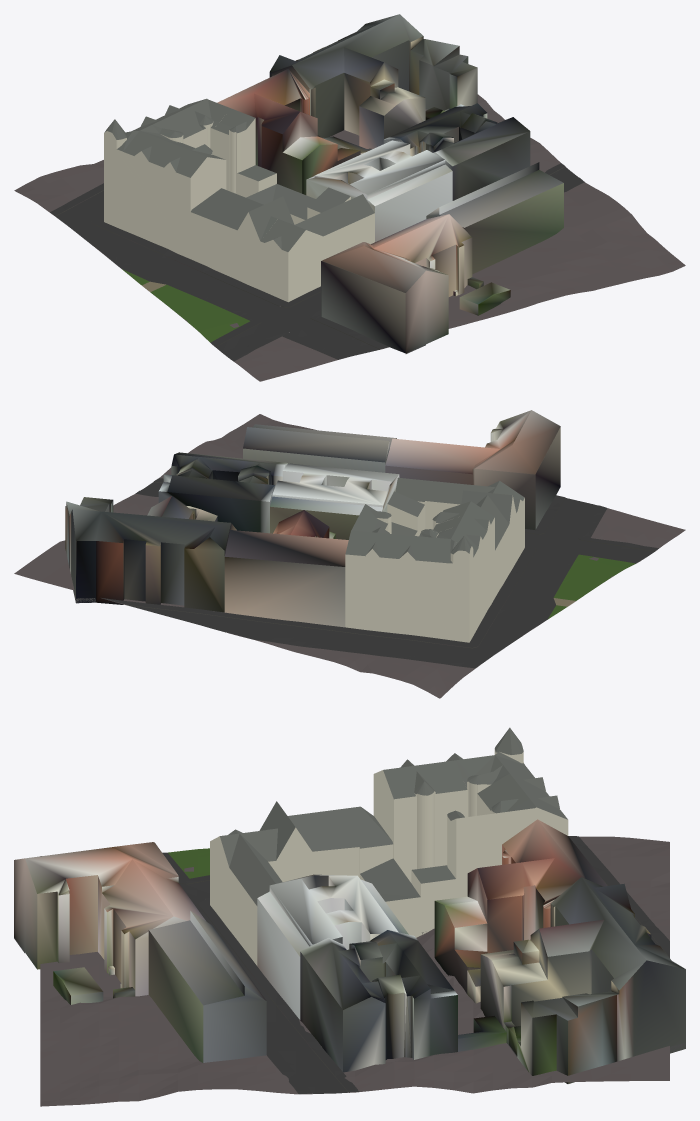
The picture shows the model from 3 angles, top to bottom: view 1: azimuth 30°, elevation 25°; view 2: azimuth 150°, elevation 25°; view 3: azimuth 270°, elevation 25°; orthographic projection. The views are drawn at different scales.
Parts seen in each view (by area): view 1: c_m08_p08; view 2: c_m08_p08; view 3: c_m08_p08.
Part boxes in pixels (x1,y1,x2,y2): c_m08_p08: (14,14,685,381); c_m08_p08: (14,410,685,698); c_m08_p08: (14,727,685,1106).
Bounding box in the file's own units: 128 × 34.24 × 137.
